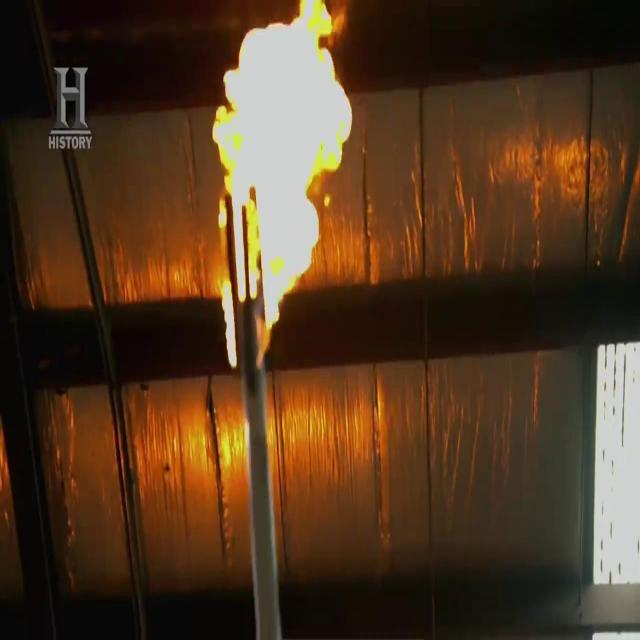Fire: (212, 12, 364, 352)
